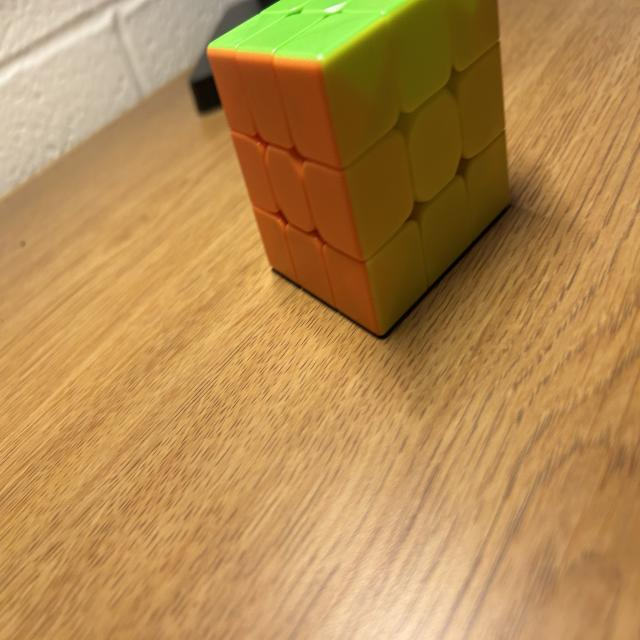Rubiks Cube: (207, 0, 510, 338)
